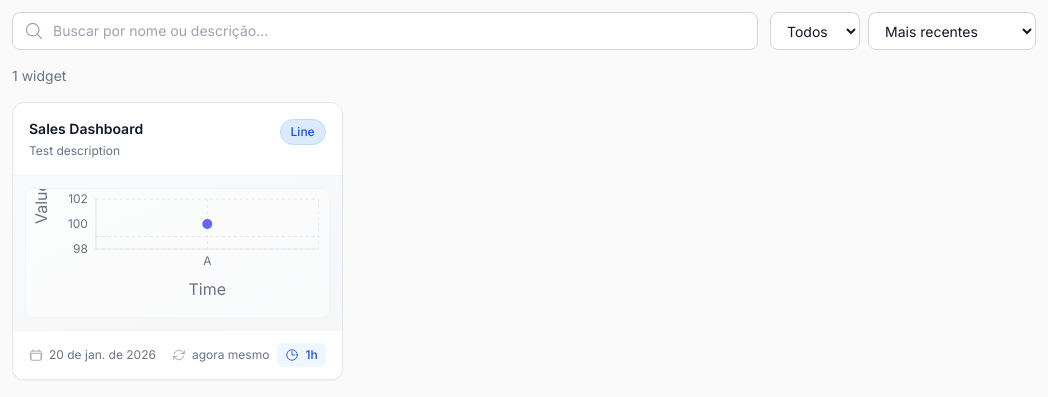
Test: WidgetList › Search Functionality › should show no results state when search has no matches
Type "nonexistent" into the field with placeholder "Buscar por nome ou descrição..." at [385, 31], box [12,12,758,50]
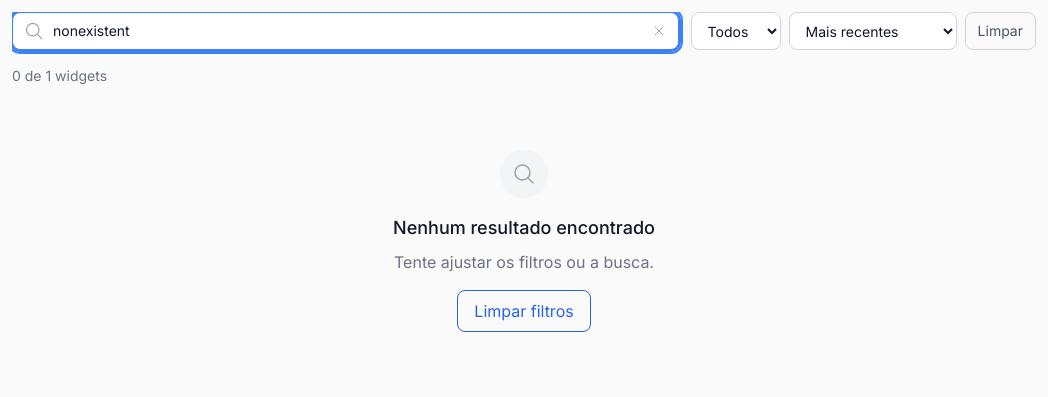
Expected: the heading "Nenhum resultado encontrado" is shown, [393,214,655,242]
